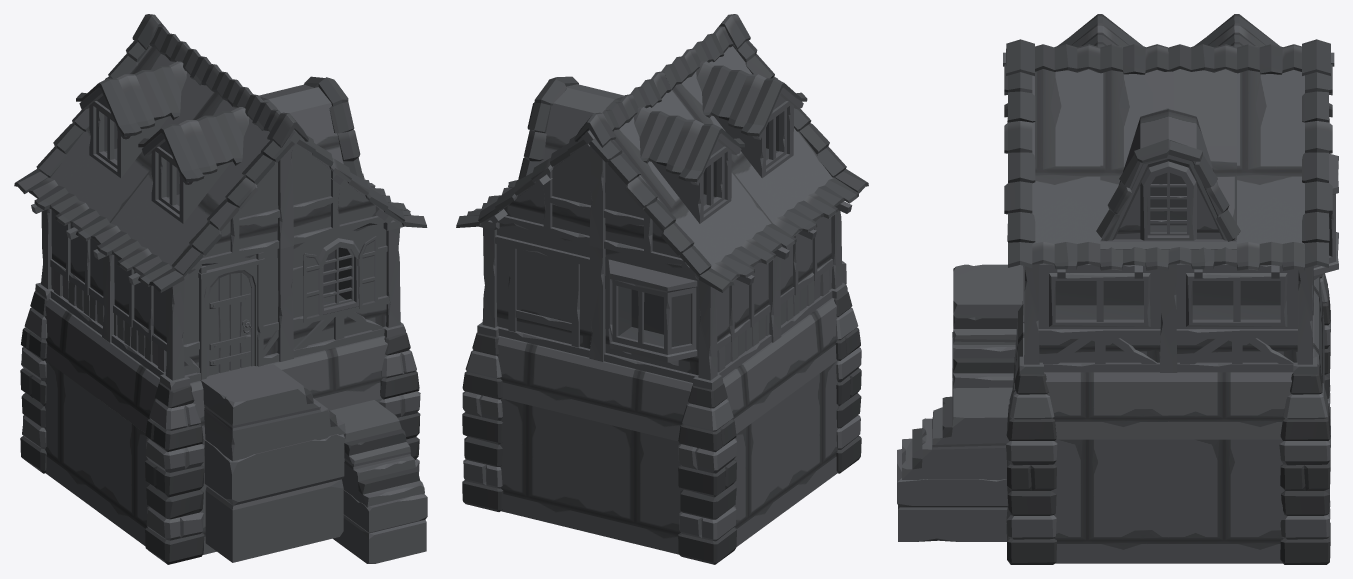
The model's file is kn_bld_supply.gltf.
The picture shows the model from 3 angles, left to right: view 1: azimuth 30°, elevation 25°; view 2: azimuth 150°, elevation 25°; view 3: azimuth 270°, elevation 25°; orthographic projection. The views are drawn at different scales.
Parts seen in each view (by area): view 1: kn_bld_supply; view 2: kn_bld_supply; view 3: kn_bld_supply.
Boxes of the visible parts, x1,y1,x2,y2 form: kn_bld_supply: [14, 14, 427, 564]; kn_bld_supply: [456, 14, 868, 564]; kn_bld_supply: [897, 14, 1338, 564].
Bounding box in the file's own units: 6.45 × 9.24 × 8.07.
1 material, 1 textured.
